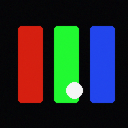2 circle: (66, 82, 82, 98)
